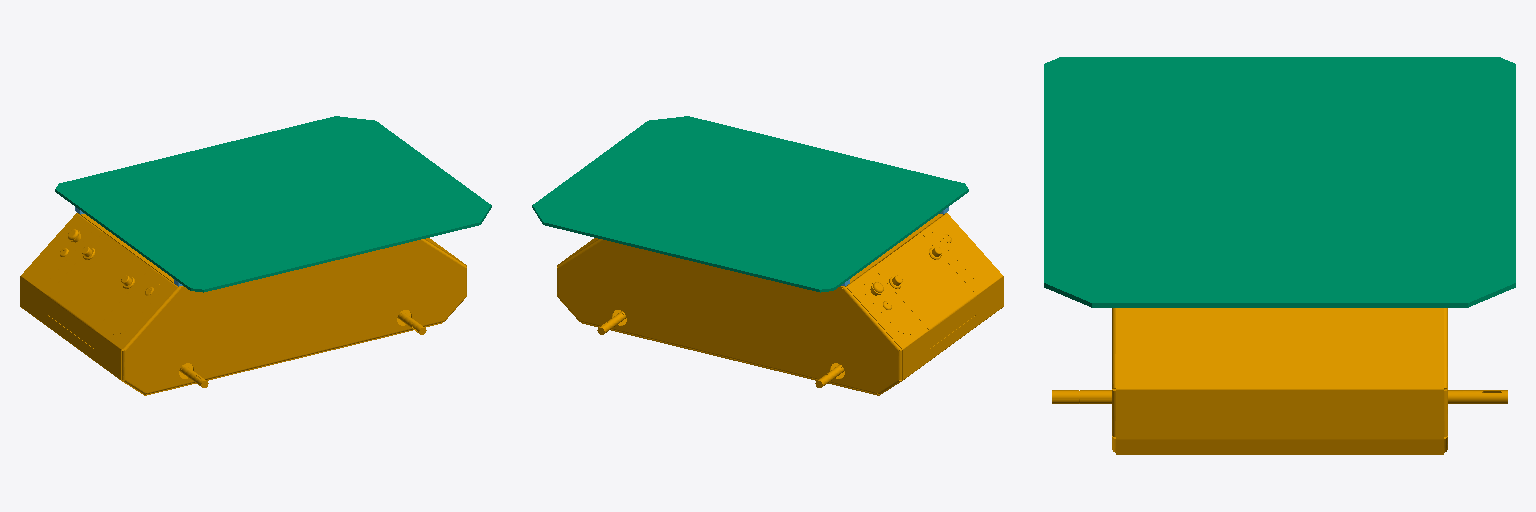
URDF robot description (husky):
<?xml version="1.0" encoding="utf-8"?>
<!-- =================================================================================== -->
<!-- |    This document was autogenerated by xacro from husky_empty.urdf.xacro         | -->
<!-- |    EDITING THIS FILE BY HAND IS NOT RECOMMENDED                                 | -->
<!-- =================================================================================== -->
<!--
Software License Agreement (BSD)
\file      husky.urdf.xacro
\authors   [author] <[email redacted]>, [author] <[email redacted]>
\copyright Copyright (c) 2015, Clearpath Robotics, Inc., All rights reserved.
Redistribution and use in source and binary forms, with or without modification, are permitted provided that
the following conditions are met:
 * Redistributions of source code must retain the above copyright notice, this list of conditions and the
   following disclaimer.
 * Redistributions in binary form must reproduce the above copyright notice, this list of conditions and the
   following disclaimer in the documentation and/or other materials provided with the distribution.
 * Neither the name of Clearpath Robotics nor the names of its contributors may be used to endorse or promote
   products derived from this software without specific prior written permission.
THIS SOFTWARE IS PROVIDED BY THE COPYRIGHT [author] "AS IS" AND ANY EXPRESS OR IMPLIED WAR-
RANTIES, INCLUDING, BUT NOT LIMITED TO, THE IMPLIED WARRANTIES OF MERCHANTABILITY AND FITNESS FOR A PARTICULAR
PURPOSE ARE DISCLAIMED. IN NO EVENT SHALL THE COPYRIGHT [author] LIABLE FOR ANY DIRECT, IN-
DIRECT, INCIDENTAL, SPECIAL, EXEMPLARY, OR CONSEQUENTIAL DAMAGES (INCLUDING, BUT NOT LIMITED TO, PROCUREMENT
OF SUBSTITUTE GOODS OR SERVICES; LOSS OF USE, DATA, OR PROFITS; OR BUSINESS INTERRUPTION) HOWEVER CAUSED AND
ON ANY THEORY OF LIABILITY, WHETHER IN CONTRACT, STRICT LIABILITY, OR TORT (INCLUDING NEGLIGENCE OR OTHERWISE)
ARISING IN ANY WAY OUT OF THE USE OF THIS SOFTWARE, EVEN IF ADVISED OF THE POSSIBILITY OF SUCH DAMAGE.
-->
<robot name="husky">
  <material name="dark_grey">
    <color rgba="0.2 0.2 0.2 1.0"/>
  </material>
  <material name="medium_grey">
    <color rgba="0.6 0.6 0.6 1.0"/>
  </material>
  <material name="light_grey">
    <color rgba="0.8 0.8 0.8 1.0"/>
  </material>
  <material name="yellow">
    <color rgba="0.8 0.8 0.0 1.0"/>
  </material>
  <material name="black">
    <color rgba="0.15 0.15 0.15 1.0"/>
  </material>
  <material name="white">
    <color rgba="1.0 1.0 1.0 1.0"/>
  </material>
  <material name="red">
    <color rgba="1.0 0.0 0.0 1.0"/>
  </material>
  <!-- Base link is the center of the robot's bottom plate -->
  <link name="base_link">
    <visual>
      <origin rpy="0 0 0" xyz="0 0 0"/>
      <geometry>
        <mesh filename="package://husky_description/meshes/base_link_dae.obj"/>
      </geometry>
    </visual>
    <collision>
      <origin rpy="0 0 0" xyz="0.0 0 0.061875"/>
      <geometry>
        <box size="0.9874 0.5709 0.12375"/>
      </geometry>
    </collision>
    <collision>
      <origin rpy="0 0 0" xyz="0 0 0.175625"/>
      <geometry>
        <box size="0.78992 0.5709 0.10375"/>
      </geometry>
    </collision>
  </link>
  <!-- Base footprint is on the ground under the robot -->
  <link name="base_footprint"/>
  <joint name="base_footprint_joint" type="fixed">
    <origin rpy="0 0 0" xyz="0 0 -0.13228"/>
    <parent link="base_link"/>
    <child link="base_footprint"/>
  </joint>
  <!-- Inertial link stores the robot's inertial information -->
  <link name="inertial_link">
    <inertial>
      <mass value="46.034"/>
      <origin xyz="-0.00065 -0.085 0.062"/>
      <inertia ixx="0.6022" ixy="-0.02364" ixz="-0.1197" iyy="1.7386" iyz="-0.001544" izz="2.0296"/>
    </inertial>
  </link>
  <joint name="inertial_joint" type="fixed">
    <origin rpy="0 0 0" xyz="0 0 0"/>
    <parent link="base_link"/>
    <child link="inertial_link"/>
  </joint>
  <!-- IMU Link is the standard mounting position for the UM6 IMU.-->
  <!-- Can be modified with environment variables in /etc/ros/setup.bash -->
  <link name="imu_link"/>
  <joint name="imu_joint" type="fixed">
    <origin rpy="0 -1.5708 3.1416" xyz="0.19 0 0.149"/>
    <parent link="base_link"/>
    <child link="imu_link"/>
  </joint>
  <gazebo reference="imu_link">
  </gazebo>
  <link name="front_left_wheel_link">
    <inertial>
      <mass value="2.637"/>
      <origin xyz="0 0 0"/>
      <inertia ixx="0.02467" ixy="0" ixz="0" iyy="0.04411" iyz="0" izz="0.02467"/>
    </inertial>
    <visual>
      <origin rpy="0 0 0" xyz="0 0 0"/>
      <geometry>
        <mesh filename="package://husky_description/meshes/wheel_dae.obj"/>
      </geometry>
    </visual>
    <collision>
      <origin rpy="1.570795 0 0" xyz="0 0 0"/>
      <geometry>
        <cylinder length="0.1143" radius="0.1651"/>
      </geometry>
    </collision>
  </link>
  <gazebo reference="front_left_wheel_link">
    <mu1 value="1.0"/>
    <mu2 value="0.5"/>
    <kp value="10000000.0"/>
    <kd value="1.0"/>
    <fdir1 value="1 0 0"/>
  </gazebo>
  <joint name="front_left_wheel" type="continuous">
    <parent link="base_link"/>
    <child link="front_left_wheel_link"/>
    <origin rpy="0 0 0" xyz="0.256 0.2854 0.03282"/>
    <axis rpy="0 0 0" xyz="0 1 0"/>
  </joint>
  <transmission name="front_left_wheel_trans" type="SimpleTransmission">
    <type>transmission_interface/SimpleTransmission</type>
    <actuator name="front_left_wheel_motor">
      <mechanicalReduction>1</mechanicalReduction>
    </actuator>
    <joint name="front_left_wheel">
      <hardwareInterface>hardware_interface/VelocityJointInterface</hardwareInterface>
    </joint>
  </transmission>
  <link name="front_right_wheel_link">
    <inertial>
      <mass value="2.637"/>
      <origin xyz="0 0 0"/>
      <inertia ixx="0.02467" ixy="0" ixz="0" iyy="0.04411" iyz="0" izz="0.02467"/>
    </inertial>
    <visual>
      <origin rpy="0 0 0" xyz="0 0 0"/>
      <geometry>
        <mesh filename="package://husky_description/meshes/wheel_dae.obj"/>
      </geometry>
    </visual>
    <collision>
      <origin rpy="1.570795 0 0" xyz="0 0 0"/>
      <geometry>
        <cylinder length="0.1143" radius="0.1651"/>
      </geometry>
    </collision>
  </link>
  <gazebo reference="front_right_wheel_link">
    <mu1 value="1.0"/>
    <mu2 value="0.5"/>
    <kp value="10000000.0"/>
    <kd value="1.0"/>
    <fdir1 value="1 0 0"/>
  </gazebo>
  <joint name="front_right_wheel" type="continuous">
    <parent link="base_link"/>
    <child link="front_right_wheel_link"/>
    <origin rpy="0 0 0" xyz="0.256 -0.2854 0.03282"/>
    <axis rpy="0 0 0" xyz="0 1 0"/>
  </joint>
  <transmission name="front_right_wheel_trans" type="SimpleTransmission">
    <type>transmission_interface/SimpleTransmission</type>
    <actuator name="front_right_wheel_motor">
      <mechanicalReduction>1</mechanicalReduction>
    </actuator>
    <joint name="front_right_wheel">
      <hardwareInterface>hardware_interface/VelocityJointInterface</hardwareInterface>
    </joint>
  </transmission>
  <link name="rear_left_wheel_link">
    <inertial>
      <mass value="2.637"/>
      <origin xyz="0 0 0"/>
      <inertia ixx="0.02467" ixy="0" ixz="0" iyy="0.04411" iyz="0" izz="0.02467"/>
    </inertial>
    <visual>
      <origin rpy="0 0 0" xyz="0 0 0"/>
      <geometry>
        <mesh filename="package://husky_description/meshes/wheel_dae.obj"/>
      </geometry>
    </visual>
    <collision>
      <origin rpy="1.570795 0 0" xyz="0 0 0"/>
      <geometry>
        <cylinder length="0.1143" radius="0.1651"/>
      </geometry>
    </collision>
  </link>
  <gazebo reference="rear_left_wheel_link">
    <mu1 value="1.0"/>
    <mu2 value="0.5"/>
    <kp value="10000000.0"/>
    <kd value="1.0"/>
    <fdir1 value="1 0 0"/>
  </gazebo>
  <joint name="rear_left_wheel" type="continuous">
    <parent link="base_link"/>
    <child link="rear_left_wheel_link"/>
    <origin rpy="0 0 0" xyz="-0.256 0.2854 0.03282"/>
    <axis rpy="0 0 0" xyz="0 1 0"/>
  </joint>
  <transmission name="rear_left_wheel_trans" type="SimpleTransmission">
    <type>transmission_interface/SimpleTransmission</type>
    <actuator name="rear_left_wheel_motor">
      <mechanicalReduction>1</mechanicalReduction>
    </actuator>
    <joint name="rear_left_wheel">
      <hardwareInterface>hardware_interface/VelocityJointInterface</hardwareInterface>
    </joint>
  </transmission>
  <link name="rear_right_wheel_link">
    <inertial>
      <mass value="2.637"/>
      <origin xyz="0 0 0"/>
      <inertia ixx="0.02467" ixy="0" ixz="0" iyy="0.04411" iyz="0" izz="0.02467"/>
    </inertial>
    <visual>
      <origin rpy="0 0 0" xyz="0 0 0"/>
      <geometry>
        <mesh filename="package://husky_description/meshes/wheel_dae.obj"/>
      </geometry>
    </visual>
    <collision>
      <origin rpy="1.570795 0 0" xyz="0 0 0"/>
      <geometry>
        <cylinder length="0.1143" radius="0.1651"/>
      </geometry>
    </collision>
  </link>
  <gazebo reference="rear_right_wheel_link">
    <mu1 value="1.0"/>
    <mu2 value="0.5"/>
    <kp value="10000000.0"/>
    <kd value="1.0"/>
    <fdir1 value="1 0 0"/>
  </gazebo>
  <joint name="rear_right_wheel" type="continuous">
    <parent link="base_link"/>
    <child link="rear_right_wheel_link"/>
    <origin rpy="0 0 0" xyz="-0.256 -0.2854 0.03282"/>
    <axis rpy="0 0 0" xyz="0 1 0"/>
  </joint>
  <transmission name="rear_right_wheel_trans" type="SimpleTransmission">
    <type>transmission_interface/SimpleTransmission</type>
    <actuator name="rear_right_wheel_motor">
      <mechanicalReduction>1</mechanicalReduction>
    </actuator>
    <joint name="rear_right_wheel">
      <hardwareInterface>hardware_interface/VelocityJointInterface</hardwareInterface>
    </joint>
  </transmission>
  <!-- Spawn Husky chassis -->
  <link name="top_chassis_link">
    <visual>
      <origin rpy="0 0 0" xyz="0 0 0"/>
      <geometry>
        <mesh filename="package://husky_description/meshes/top_chassis_dae.obj"/>
      </geometry>
    </visual>
  </link>
  <!-- Attach chassis to the robot -->
  <joint name="top_chassis_joint" type="fixed">
    <parent link="base_link"/>
    <child link="top_chassis_link"/>
  </joint>
  <!-- Spawn user rails -->
  <link name="user_rail_link">
    <visual>
      <geometry>
        <mesh filename="package://husky_description/meshes/user_rail_dae.obj"/>
      </geometry>
    </visual>
  </link>
  <!-- Attach user rails to base link -->
  <joint name="user_rail" type="fixed">
    <origin rpy="0 0 0" xyz="0.272 0 0.245"/>
    <parent link="base_link"/>
    <child link="user_rail_link"/>
  </joint>
  <link name="top_plate_link">
    <visual>
      <origin rpy="0 0 0" xyz="0 0 0"/>
      <geometry>
        <mesh filename="package://husky_description/meshes/top_plate_dae.obj"/>
      </geometry>
    </visual>
    <collision>
      <origin rpy="0 0 0" xyz="0 0 0"/>
      <geometry>
        <mesh filename="package://husky_description/meshes/top_plate_stl.obj"/>
      </geometry>
    </collision>
  </link>
  <!-- Attach top plate -->
  <joint name="top_plate_joint" type="fixed">
    <parent link="base_link"/>
    <child link="top_plate_link"/>
    <origin rpy="0 0 0" xyz="0.0812 0 0.245"/>
  </joint>
  <!-- Top plate front link -->
  <joint name="top_plate_front_joint" type="fixed">
    <parent link="top_plate_link"/>
    <child link="top_plate_front_link"/>
    <origin rpy="0 0 0" xyz="0.36367 0 0.00639"/>
  </joint>
  <!-- Top plate rear link-->
  <joint name="top_plate_rear_joint" type="fixed">
    <parent link="top_plate_link"/>
    <child link="top_plate_rear_link"/>
    <origin rpy="0 0 0" xyz="-0.36633 0 0.00639"/>
  </joint>
  <link name="top_plate_front_link"/>
  <link name="top_plate_rear_link"/>
  <gazebo>
    <plugin filename="libgazebo_ros_control.so" name="gazebo_ros_control">
      <robotNamespace>/</robotNamespace>
      <legacyModeNS>true</legacyModeNS>
    </plugin>
  </gazebo>
  <gazebo>
    <plugin filename="libhector_gazebo_ros_imu.so" name="imu_controller">
      <robotNamespace>/</robotNamespace>
      <updateRate>50.0</updateRate>
      <bodyName>base_link</bodyName>
      <topicName>imu/data</topicName>
      <accelDrift>0.005 0.005 0.005</accelDrift>
      <accelGaussianNoise>0.005 0.005 0.005</accelGaussianNoise>
      <rateDrift>0.005 0.005 0.005 </rateDrift>
      <rateGaussianNoise>0.005 0.005 0.005 </rateGaussianNoise>
      <headingDrift>0.005</headingDrift>
      <headingGaussianNoise>0.005</headingGaussianNoise>
    </plugin>
  </gazebo>
  <gazebo>
    <plugin filename="libhector_gazebo_ros_gps.so" name="gps_controller">
      <robotNamespace>/</robotNamespace>
      <updateRate>40</updateRate>
      <bodyName>base_link</bodyName>
      <frameId>base_link</frameId>
      <topicName>navsat/fix</topicName>
      <velocityTopicName>navsat/vel</velocityTopicName>
      <referenceLatitude>49.9</referenceLatitude>
      <referenceLongitude>8.9</referenceLongitude>
      <referenceHeading>0</referenceHeading>
      <referenceAltitude>0</referenceAltitude>
      <drift>0.0001 0.0001 0.0001</drift>
    </plugin>
  </gazebo>
  <!-- This file is a placeholder which is included by default from
       husky.urdf.xacro. If a robot is being customized and requires
       additional URDF, set the HUSKY_URDF_EXTRAS environment variable
       to the full path of the file you would like included. -->
  <!-- This file is a placeholder which is included by default from
       husky.urdf.xacro. If a robot is being customized and requires
       additional URDF, set the HUSKY_URDF_EXTRAS environment variable
       to the full path of the file you would like included. -->
</robot>

--- What the picture shows (computed from the rendered views, not written in the file) ---
The picture shows the robot from 3 angles, left to right: view 1: azimuth 30°, elevation 25°; view 2: azimuth 150°, elevation 25°; view 3: azimuth 270°, elevation 25°; orthographic projection.
Model husky with 13 links and 12 joints (4 continuous, 8 fixed), rooted at base_link, posed all joints at 0.
Visible links, largest first — view 1: top_plate_link, base_link, top_chassis_link; view 2: top_plate_link, base_link, top_chassis_link; view 3: top_plate_link, top_chassis_link, base_link.
Boxes of the visible links, x1,y1,x2,y2 form: top_plate_link: (55, 116, 491, 292); base_link: (76, 213, 466, 395); top_chassis_link: (20, 213, 466, 395); top_plate_link: (532, 116, 968, 292); base_link: (557, 213, 947, 395); top_chassis_link: (557, 213, 1003, 395); top_plate_link: (1044, 57, 1515, 307); top_chassis_link: (1116, 308, 1443, 454); base_link: (1052, 308, 1507, 452).
Bounding box of the posed robot: 0.8522 × 0.59 × 0.2545 m (x, y, z).
Meshes: 5 distinct files referenced, 4 mesh visuals loaded (4 OBJ); not drawn: 4 (reference not matched to a file when rendering).